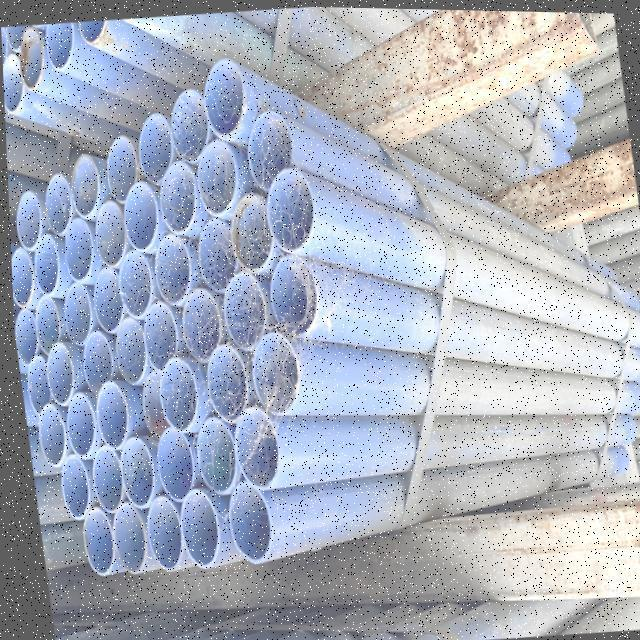pipe: (266, 257, 316, 344), (224, 271, 276, 352), (246, 114, 295, 199), (265, 172, 314, 256), (247, 338, 294, 421), (221, 480, 265, 565), (228, 412, 275, 491), (175, 487, 219, 571), (177, 286, 222, 368), (200, 219, 241, 309), (196, 142, 242, 220), (230, 195, 274, 276), (170, 90, 214, 171), (202, 347, 246, 425), (201, 64, 244, 143), (145, 489, 185, 573), (154, 357, 197, 434), (152, 428, 193, 507), (104, 135, 143, 218), (138, 115, 174, 204), (150, 238, 194, 310), (192, 421, 233, 498), (126, 182, 168, 256), (161, 160, 199, 238), (113, 437, 150, 517), (141, 302, 180, 376), (88, 203, 127, 277), (87, 443, 120, 528), (116, 250, 154, 322), (84, 326, 116, 409), (112, 318, 147, 391), (90, 266, 121, 344), (91, 384, 126, 453), (39, 174, 73, 244), (77, 510, 111, 579), (68, 156, 102, 224), (60, 286, 94, 351), (138, 367, 167, 442), (43, 341, 72, 415), (61, 220, 92, 286), (109, 509, 140, 574), (57, 458, 88, 522), (33, 233, 60, 299), (64, 396, 92, 458), (33, 297, 60, 360), (36, 406, 62, 469), (15, 193, 41, 254), (20, 31, 46, 91), (24, 361, 48, 420), (2, 53, 24, 115), (9, 250, 31, 312), (11, 313, 33, 375), (48, 28, 72, 71)
